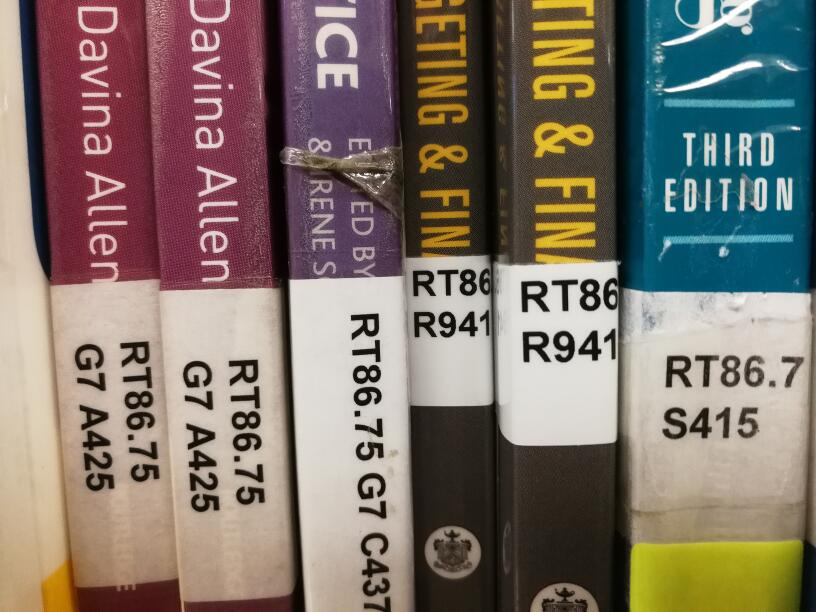booklabel: (344, 308, 401, 612), (70, 338, 161, 494), (180, 355, 268, 514), (660, 352, 807, 441), (517, 276, 621, 366), (409, 266, 494, 340)
